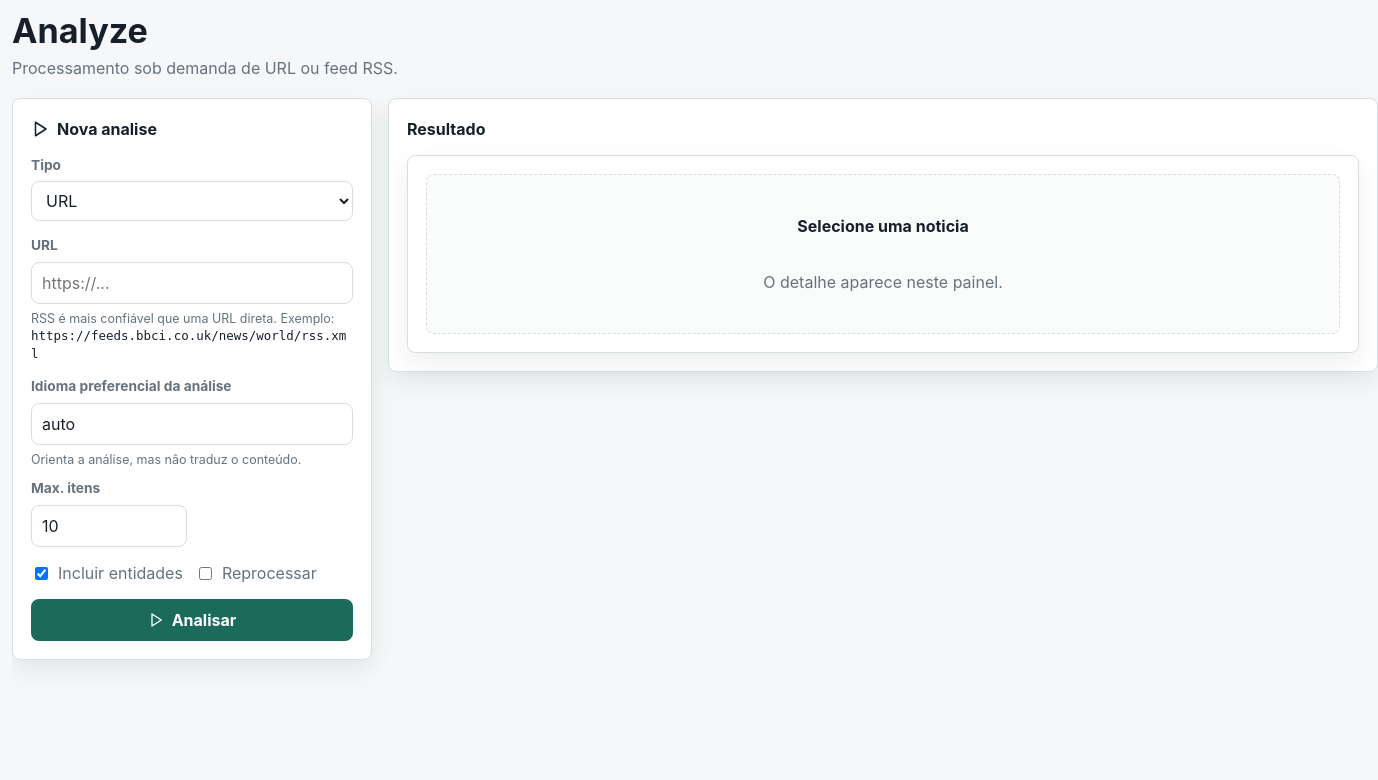
Test case: Analyze › shows errors returned by the API client
The width and height of the screenshot is (1378, 780).
In the field labelled "URL": (192, 283) [31,262,353,304], type "https://bad.example.com/article"
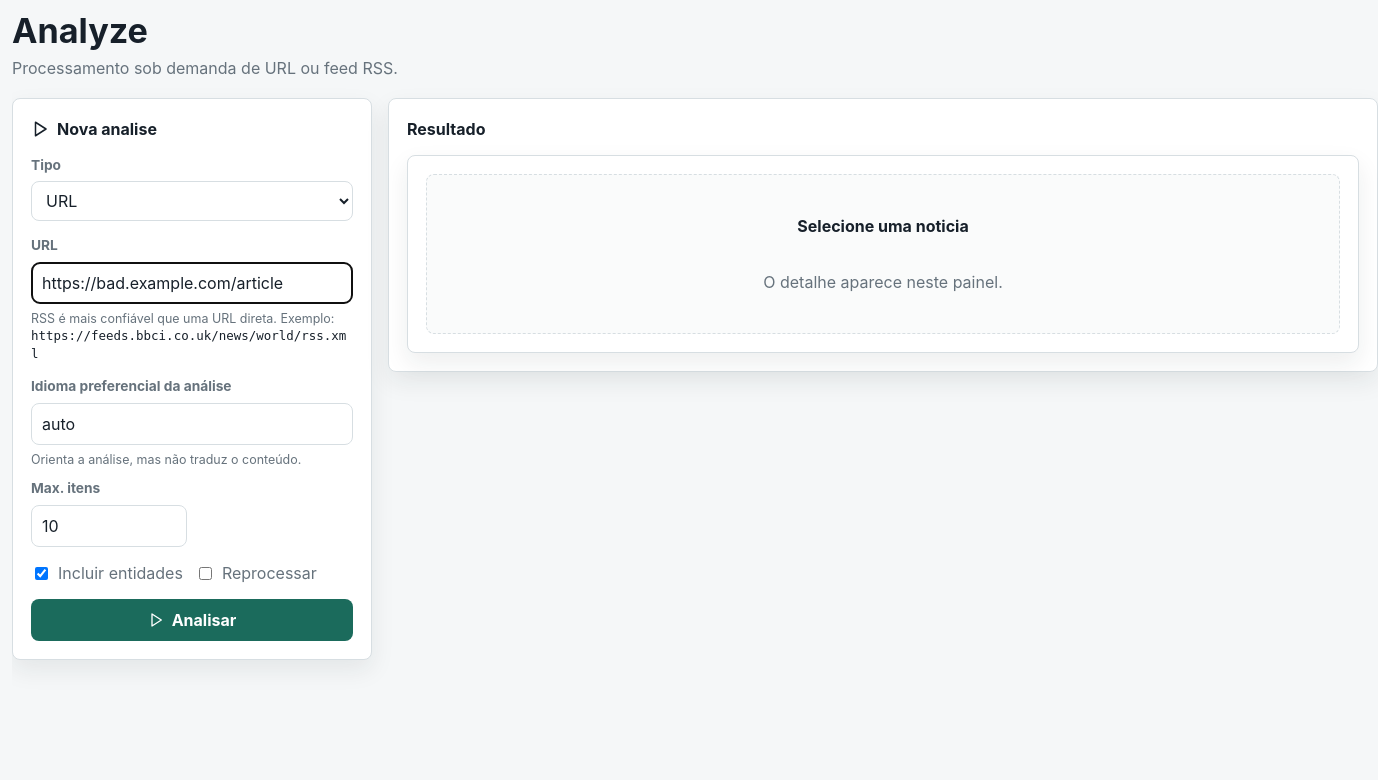
Click the button "Analisar": (192, 620) [31,599,353,641]
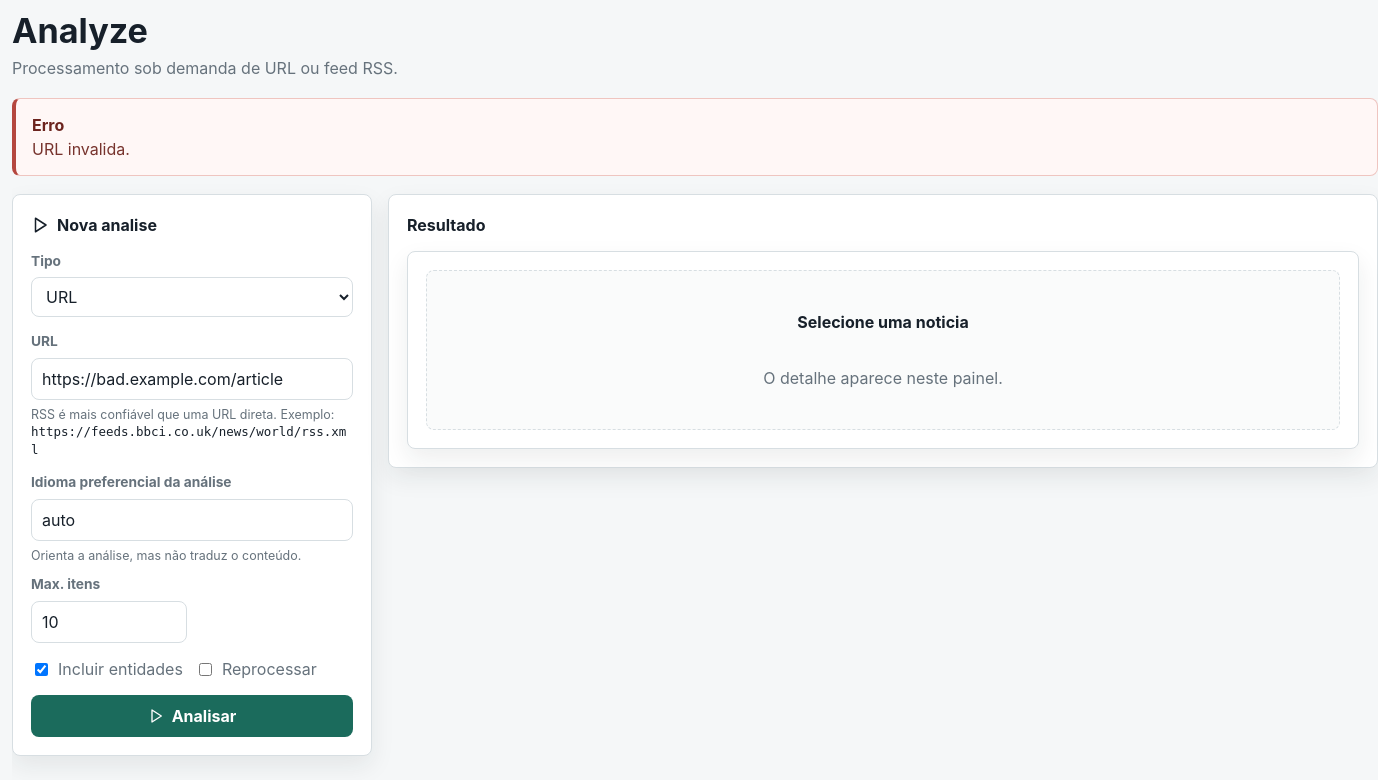
Check: the message shows "URL invalida.", box [32,139,130,159]
